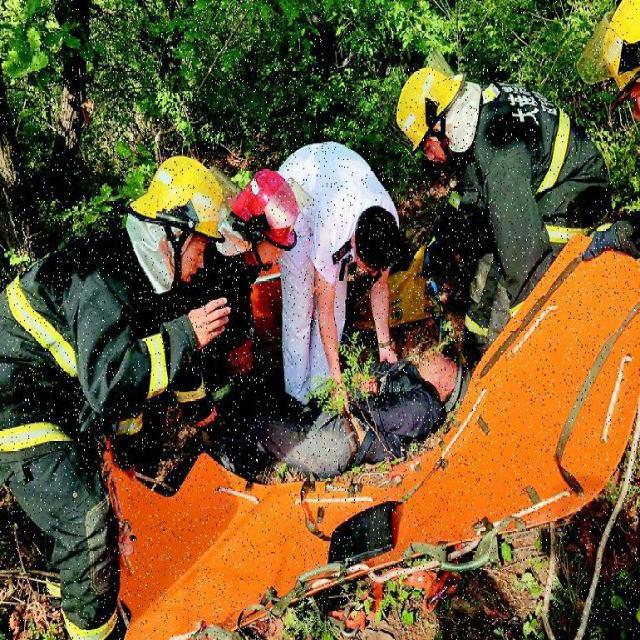fall: (237, 352, 469, 464)
